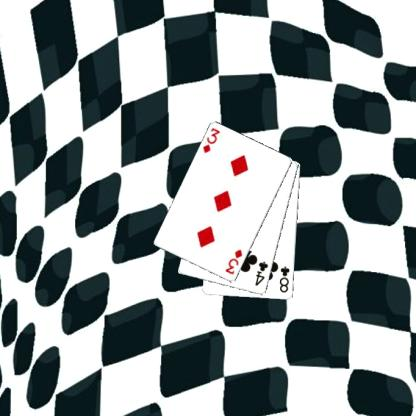3D: (223, 246, 243, 276), (200, 126, 221, 154)
4C: (253, 260, 269, 288)
8C: (277, 264, 291, 294)
